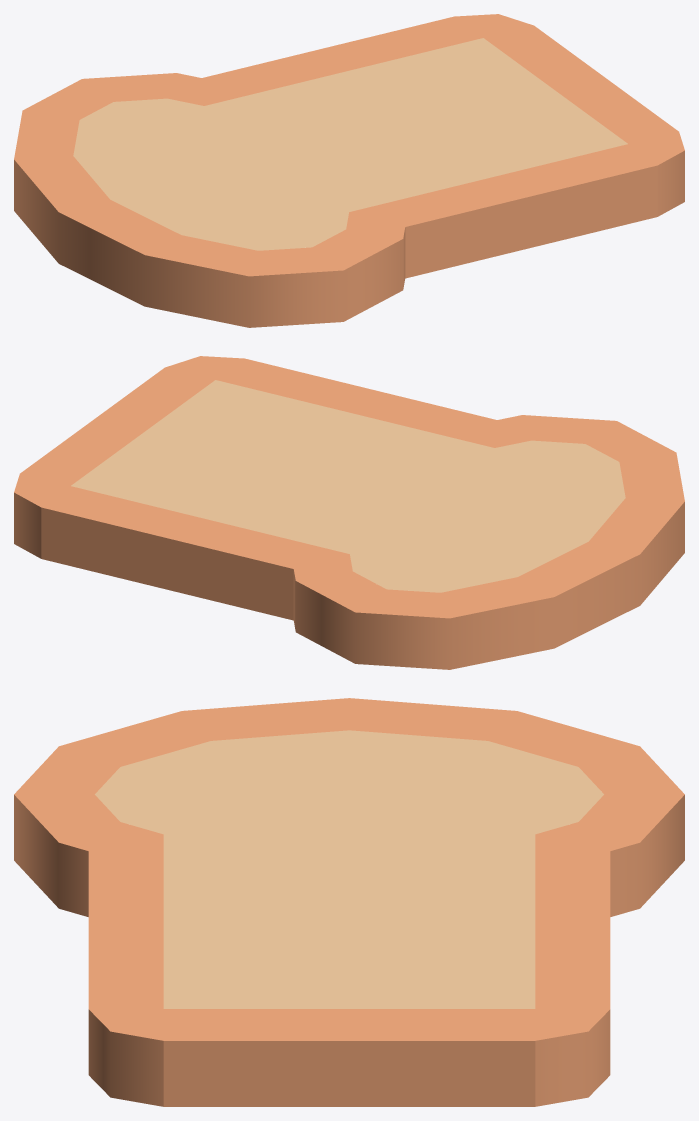
The model's file is bread.glb.
3 renders of one model, top to bottom at view 1: azimuth 30°, elevation 25°; view 2: azimuth 150°, elevation 25°; view 3: azimuth 270°, elevation 25°, orthographic. The views are drawn at different scales.
Parts seen in each view (by area): view 1: bread; view 2: bread; view 3: bread.
Boxes of the visible parts, <box> form: bread: <box>14,14,684,327</box>; bread: <box>14,356,684,669</box>; bread: <box>14,698,684,1106</box>.
Bounding box in the file's own units: 0.4423 × 0.0397 × 0.3659.
